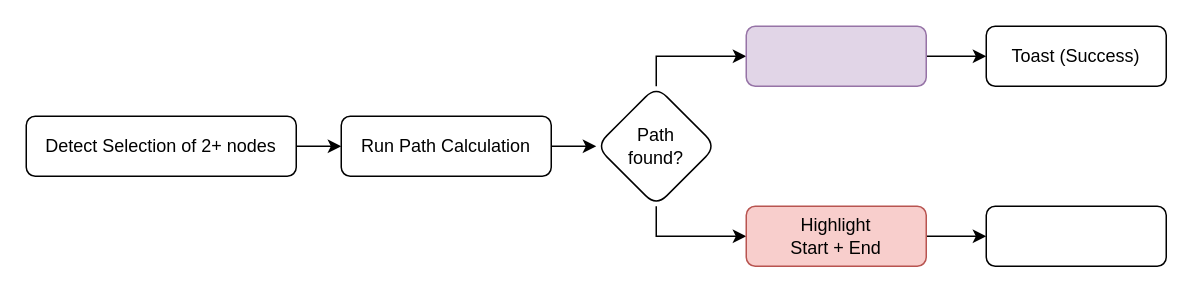
Some shapes in this 1193 by 293 pixel diagram are drawn without their labels. The centre of each missing label's shape, as x and y in pixels:
"Highlight Path" belongs at point 835,55.
"Toast (Info)" belongs at point 1075,235.
